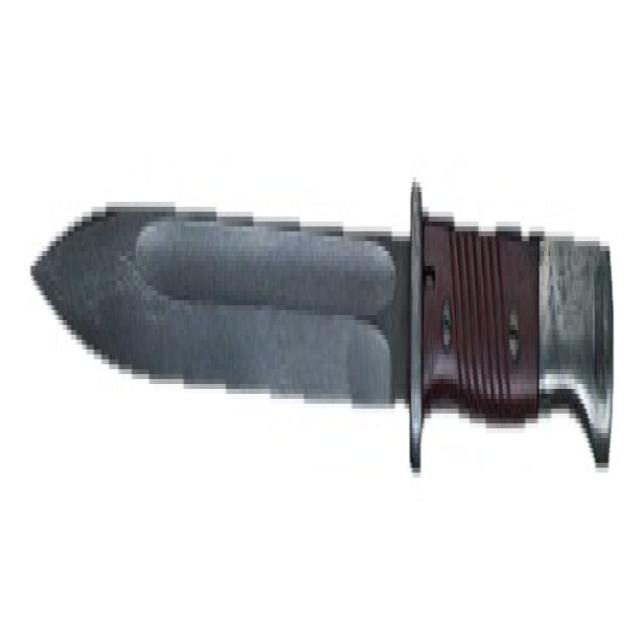knife: (27, 149, 621, 547)
